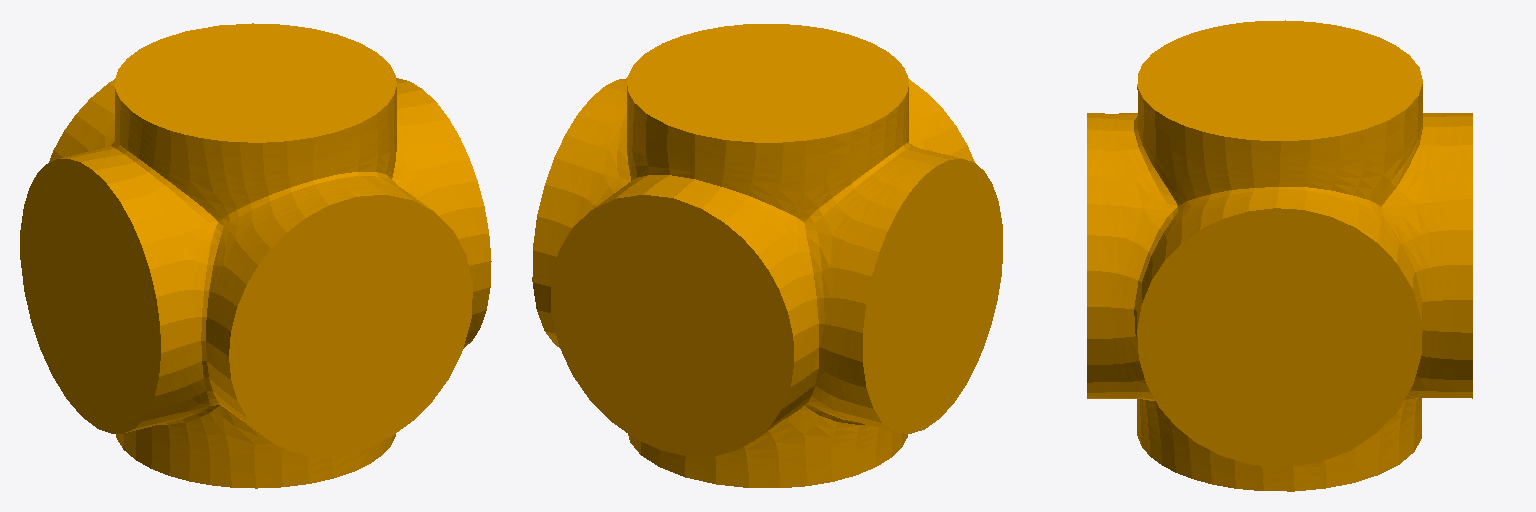
The robot description file, URDF, robot "object":
<robot name="object">
  <link name="object">
    <visual>
      <origin xyz="0 0 0"/>
      <geometry>
        <mesh filename="visual.obj" scale="1 1 1"/>
      </geometry>
    </visual>
    <collision>
      <origin xyz="0 0 0"/>
      <geometry>
        <mesh filename="visual.obj" scale="1 1 1"/>
      </geometry>
    </collision>
    <inertial>
      <mass value="0.05"/>
      <inertia ixx="5.795852824227255e-05" iyy="5.796793856506025e-05" izz="5.795315841420762e-05" ixy="2.8090498096326562e-09" ixz="3.734549031324421e-09" iyz="-5.124750401326865e-09"/>
    </inertial>
  </link>
</robot>

--- Facts derived from the render (not from the file) ---
The picture shows the robot from 3 angles, left to right: view 1: azimuth 30°, elevation 25°; view 2: azimuth 150°, elevation 25°; view 3: azimuth 270°, elevation 25°; orthographic projection.
Robot: object — 1 links, 0 joints (none); root link object; default pose: all joints at 0.
Visible links, largest first — view 1: object; view 2: object; view 3: object.
Boxes of the visible links, left/top/right/bottom form: object: left=20, top=23, right=491, bottom=488; object: left=532, top=24, right=1002, bottom=487; object: left=1087, top=20, right=1472, bottom=491.
Bounding box of the posed robot: 0.096 × 0.096 × 0.096 m (x, y, z).
1 mesh visuals loaded from 1 distinct referenced files (1 OBJ).
